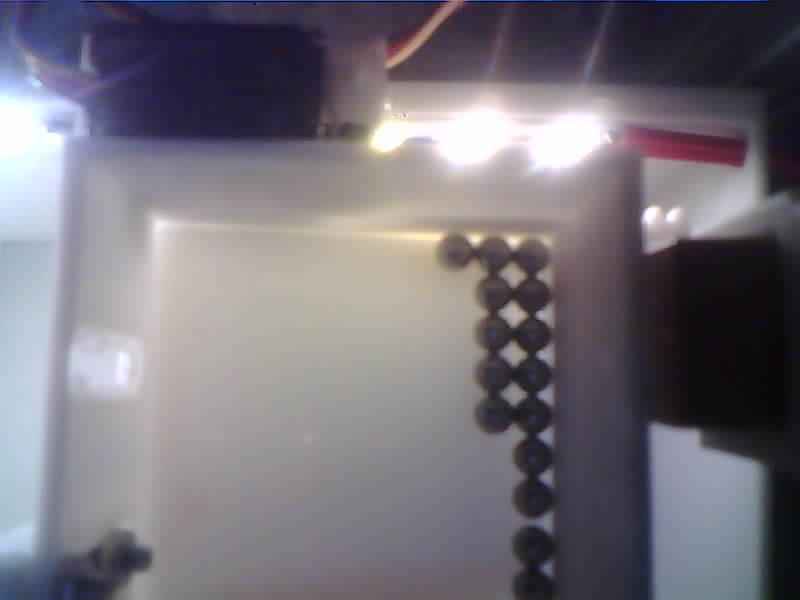Metal: (509, 525, 557, 570), (511, 479, 555, 519), (511, 436, 554, 476), (473, 315, 513, 355), (474, 359, 516, 396), (475, 235, 513, 274), (517, 396, 554, 436), (433, 233, 474, 269), (473, 398, 514, 434), (510, 278, 552, 313), (474, 276, 511, 312), (515, 237, 551, 274), (511, 571, 554, 600), (516, 316, 551, 351), (517, 359, 554, 392)
